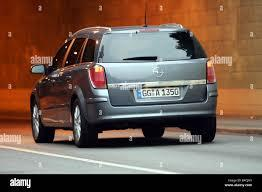opel: (150, 65, 165, 78)
